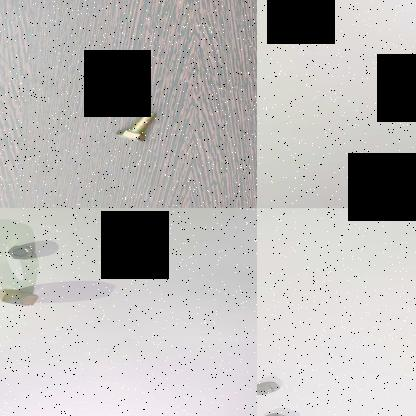Bolts: (114, 108, 160, 144), (88, 78, 138, 98)
NUTS: (0, 241, 55, 262), (0, 282, 42, 309), (257, 375, 288, 397)
